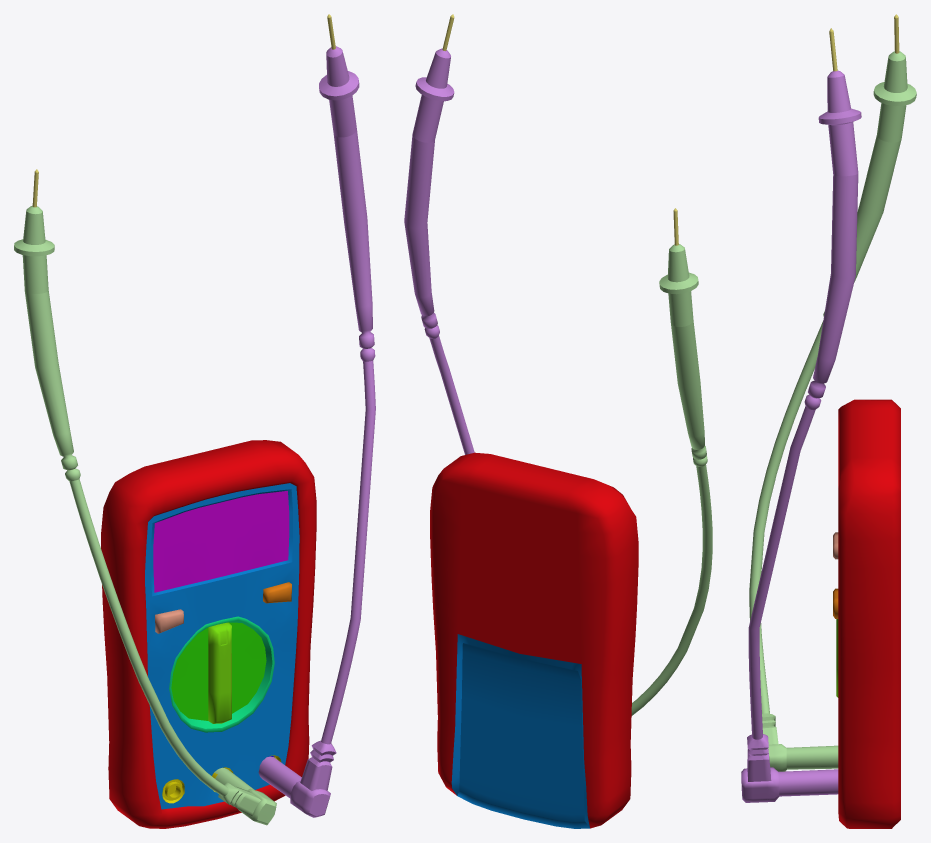
The model's file is Multimeter.fbx.
The picture shows the model from 3 angles, left to right: view 1: azimuth 30°, elevation 25°; view 2: azimuth 150°, elevation 25°; view 3: azimuth 270°, elevation 25°; orthographic projection. The views are drawn at different scales.
Parts seen in each view (by area): view 1: body.final, right, left, mid.final; view 2: body.final, left, right; view 3: body.final, right, left.
Part boxes in pixels (box(x1,y1,x2,y2)): body.final: box(101, 440, 316, 828); right: box(258, 14, 375, 817); left: box(14, 169, 276, 825); mid.final: box(169, 616, 274, 732); body.final: box(430, 452, 638, 828); left: box(631, 208, 712, 715); right: box(404, 14, 474, 454); body.final: box(833, 399, 900, 828); right: box(741, 28, 861, 802); left: box(749, 14, 916, 771).
Size of the model in its own units: 471 by 1089 by 210.
